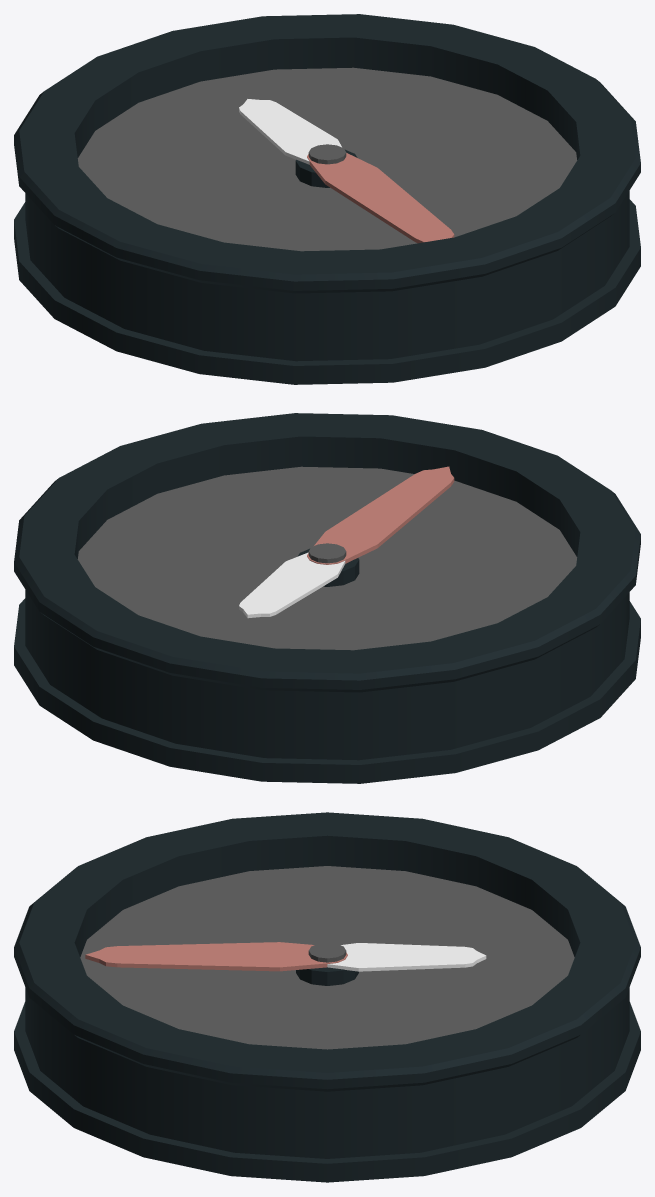
The model's file is compass.fbx.
The picture shows the model from 3 angles, top to bottom: view 1: azimuth 30°, elevation 25°; view 2: azimuth 150°, elevation 25°; view 3: azimuth 270°, elevation 25°; orthographic projection.
Visible parts, largest first — view 1: pCompassRim, pCompassFace, pMainPointer, pOtherPointer, p_CompassPeg, pCompassFacePeg; view 2: pCompassRim, pCompassFace, pMainPointer, pOtherPointer, p_CompassPeg, pCompassFacePeg; view 3: pCompassRim, pCompassFace, pMainPointer, pOtherPointer, pCompassFacePeg, p_CompassPeg.
Boxes of the visible parts, x1,y1,x2,y2 form: pCompassRim: (14,14,640,384); pCompassFace: (77,67,577,251); pMainPointer: (307,153,454,243); pOtherPointer: (239,99,341,164); p_CompassPeg: (308,144,346,164); pCompassFacePeg: (295,149,357,187); pCompassRim: (14,413,640,783); pCompassFace: (77,466,577,650); pMainPointer: (307,466,454,564); pOtherPointer: (239,552,345,618); p_CompassPeg: (308,543,346,563); pCompassFacePeg: (298,548,359,586); pCompassRim: (14,812,640,1182); pCompassFace: (80,866,574,1049); pMainPointer: (85,942,347,971); pOtherPointer: (327,943,486,971); pCompassFacePeg: (296,967,358,985); p_CompassPeg: (308,942,346,962).
Size of the model in its own units: 2 by 0.3782 by 2.
